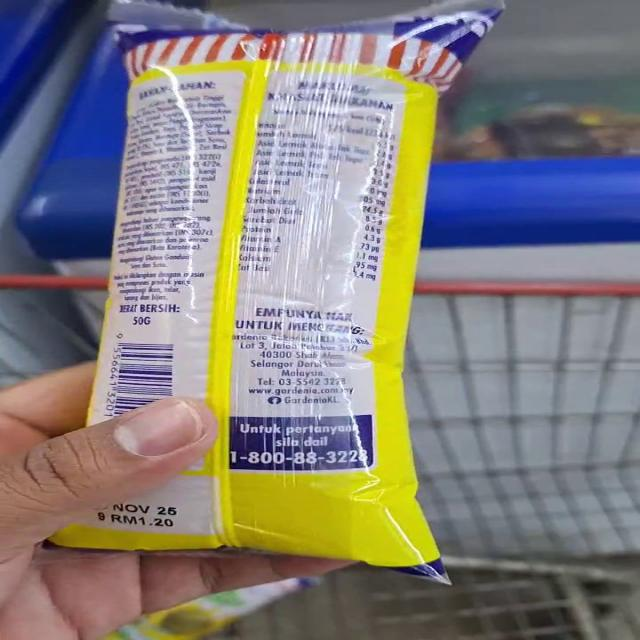Roti: (86, 9, 484, 593)
